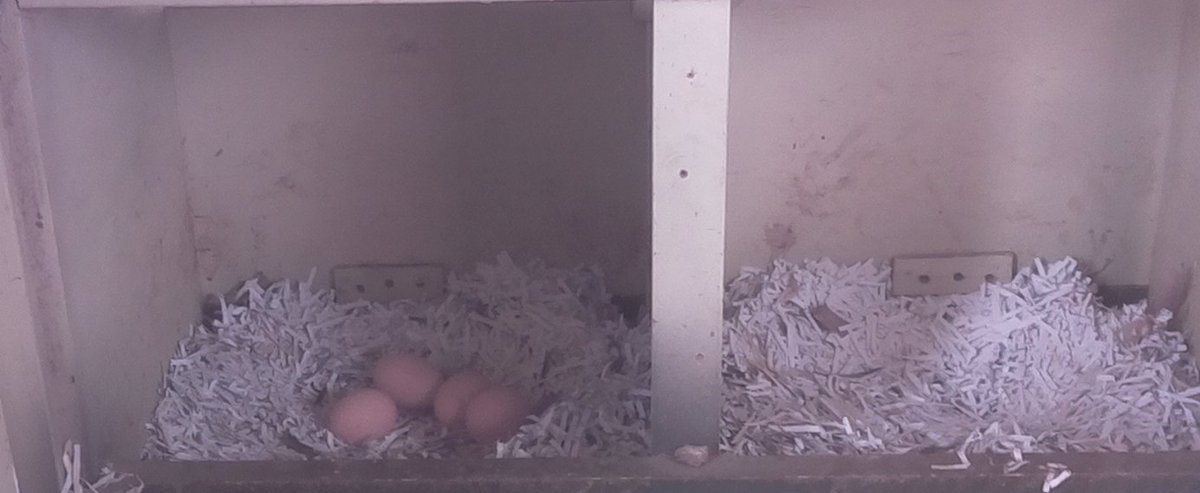egg: (324, 379, 406, 449), (462, 377, 540, 446), (362, 349, 443, 409), (435, 365, 489, 432)
